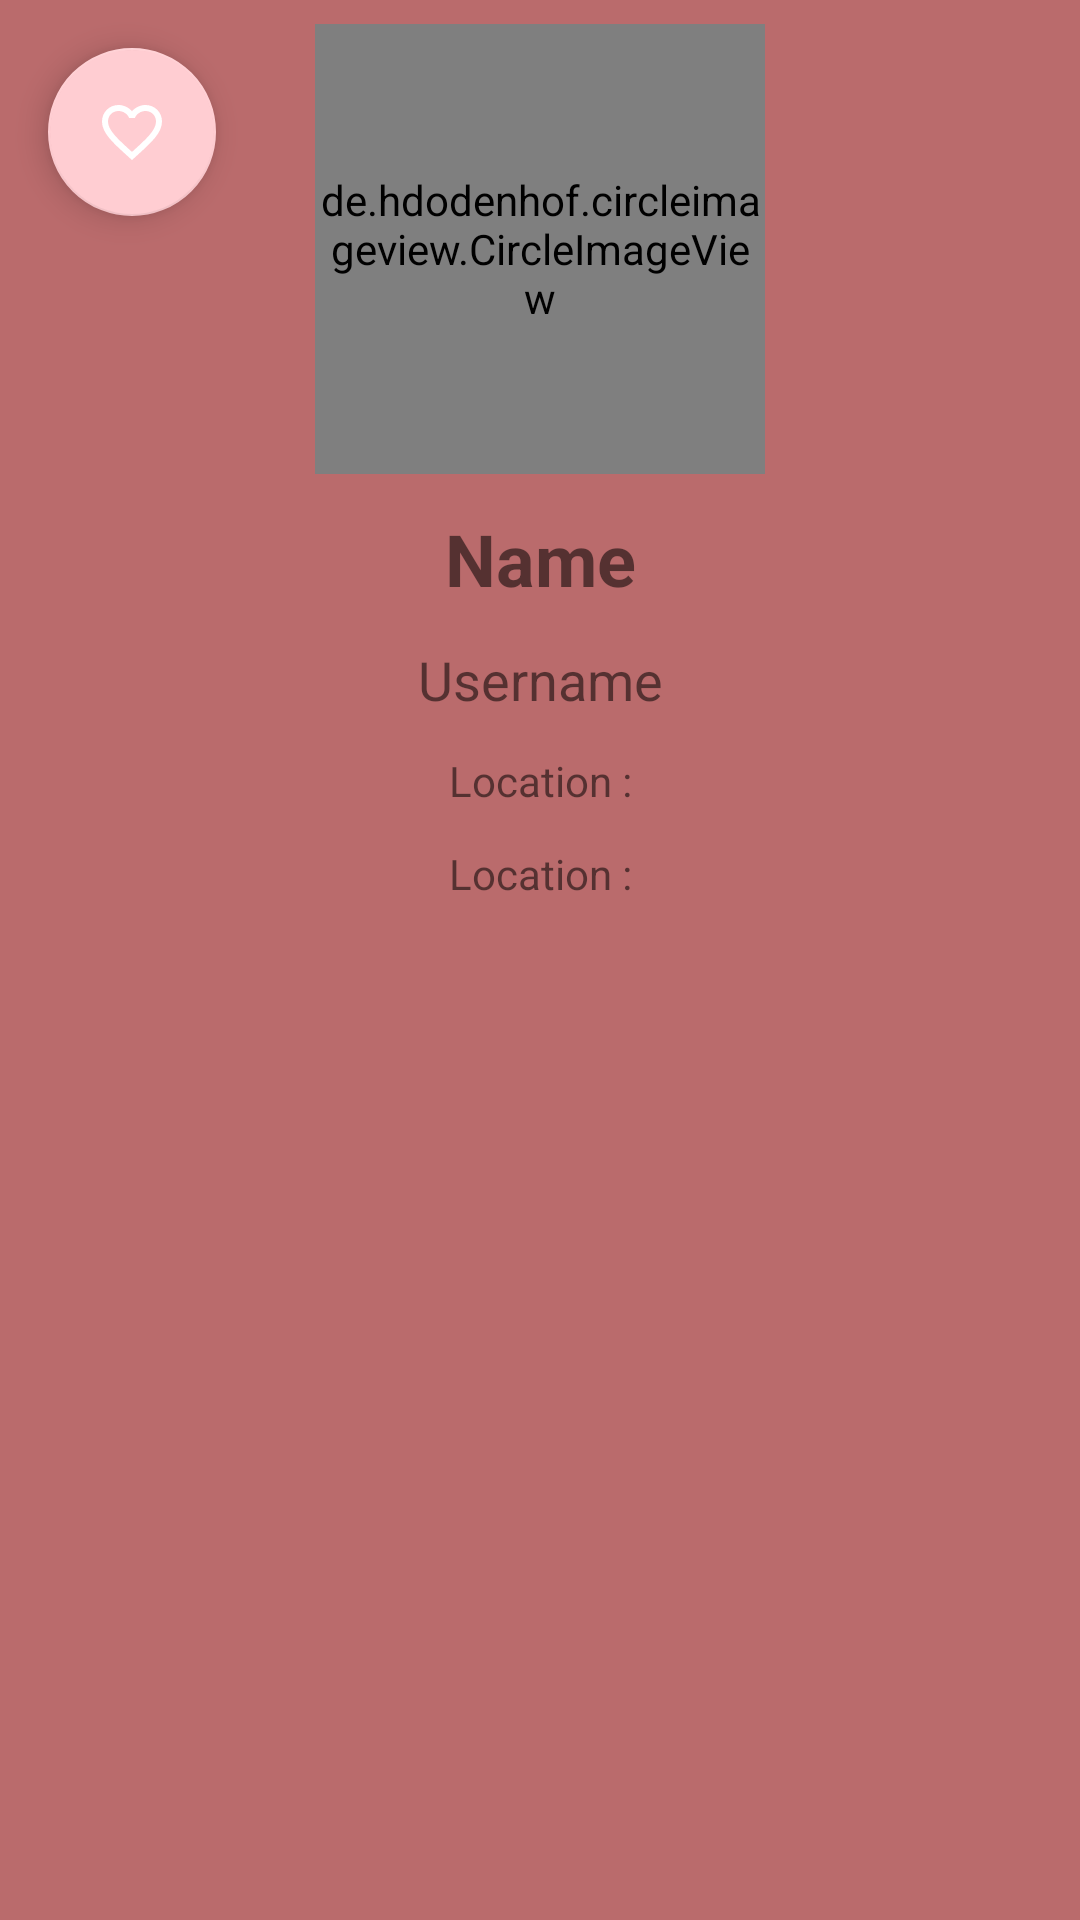

Icons on this 1080px x 1920px Android screen, each with the point to tap as [x,y]:
favorite border: [132,132]
